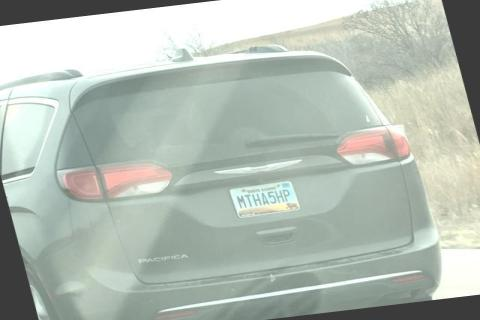LicensePlate: (227, 179, 300, 217)
